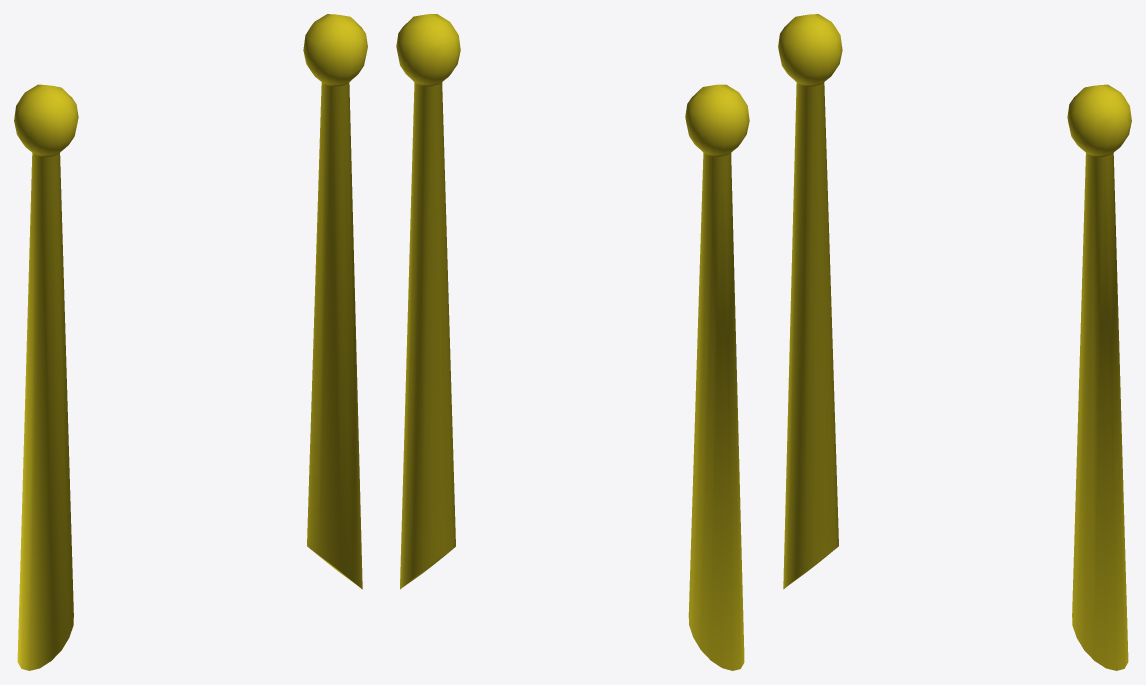
File: Sticks.obj
3 renders of one model, left to right at view 1: azimuth 30°, elevation 25°; view 2: azimuth 150°, elevation 25°; view 3: azimuth 330°, elevation 25°, orthographic.
Visible parts, largest first — view 1: Sticks_msh; view 2: Sticks_msh; view 3: Sticks_msh.
Part boxes in pixels (box(x1,y1,x2,y2)): Sticks_msh: box(14, 14, 367, 670); Sticks_msh: box(396, 14, 749, 670); Sticks_msh: box(778, 14, 1131, 670).
Size of the model in its own units: 0.1802 by 0.2875 by 0.0298.
1 material, 1 textured.
